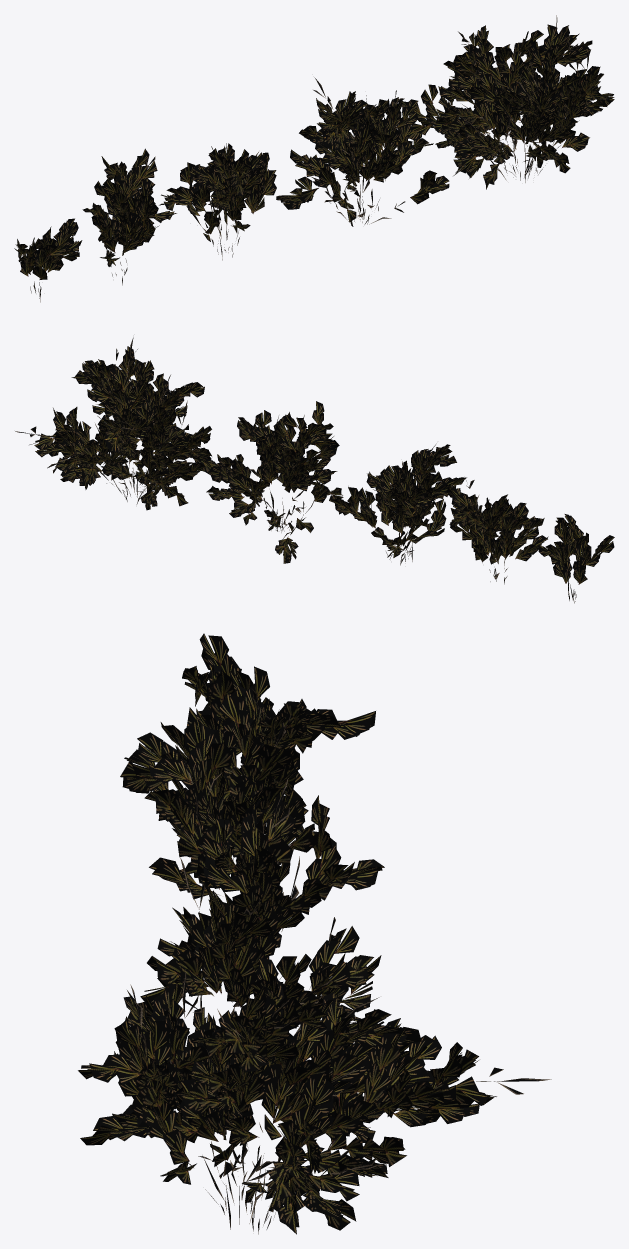
File: wild_rooibos_bush_lod0.glb
The picture shows the model from 3 angles, top to bottom: view 1: azimuth 30°, elevation 25°; view 2: azimuth 150°, elevation 25°; view 3: azimuth 270°, elevation 25°; orthographic projection. The views are drawn at different scales.
Visible parts, largest first — view 1: wild_rooibos_bush_a, wild_rooibos_bush_b, wild_rooibos_bush_c, wild_rooibos_bush_d, wild_rooibos_bush_e; view 2: wild_rooibos_bush_a, wild_rooibos_bush_b, wild_rooibos_bush_c, wild_rooibos_bush_d, wild_rooibos_bush_e; view 3: wild_rooibos_bush_a, wild_rooibos_bush_b, wild_rooibos_bush_c, wild_rooibos_bush_d, wild_rooibos_bush_e.
Boxes of the visible parts, left/top/right/bottom form: wild_rooibos_bush_a: left=398, top=15, right=614, bottom=189; wild_rooibos_bush_b: left=276, top=77, right=449, bottom=226; wild_rooibos_bush_c: left=159, top=143, right=276, bottom=260; wild_rooibos_bush_d: left=82, top=148, right=176, bottom=285; wild_rooibos_bush_e: left=14, top=218, right=82, bottom=302; wild_rooibos_bush_a: left=15, top=337, right=219, bottom=510; wild_rooibos_bush_b: left=206, top=401, right=343, bottom=563; wild_rooibos_bush_c: left=329, top=443, right=466, bottom=565; wild_rooibos_bush_d: left=446, top=477, right=548, bottom=584; wild_rooibos_bush_e: left=538, top=514, right=614, bottom=603; wild_rooibos_bush_a: left=78, top=957, right=551, bottom=1234; wild_rooibos_bush_b: left=140, top=778, right=381, bottom=1037; wild_rooibos_bush_c: left=120, top=717, right=384, bottom=931; wild_rooibos_bush_d: left=160, top=666, right=375, bottom=860; wild_rooibos_bush_e: left=182, top=633, right=273, bottom=755.
Bounding box in the file's own units: 2.27 × 0.5439 × 0.8433.
3 materials, 3 textured.
